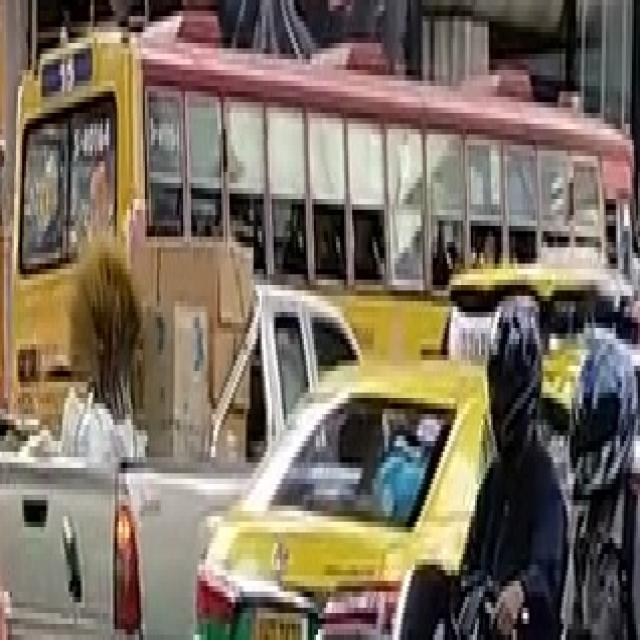helmet: (568, 334, 638, 500), (485, 290, 541, 452)
